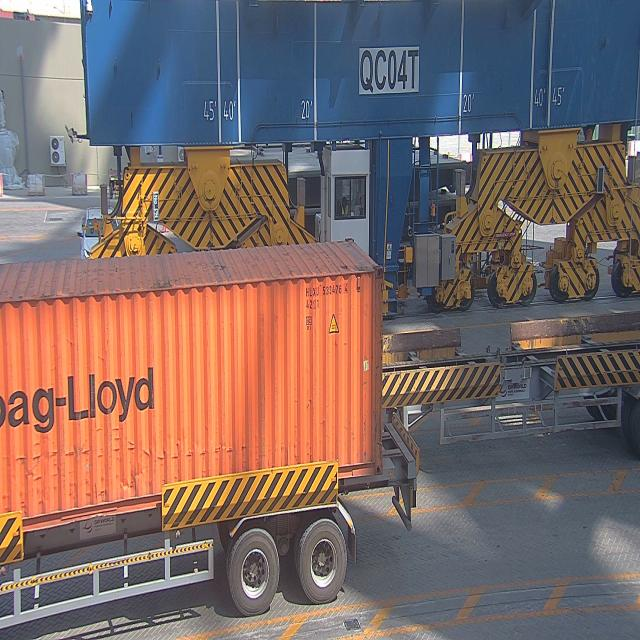dent: (11, 444, 247, 465)
